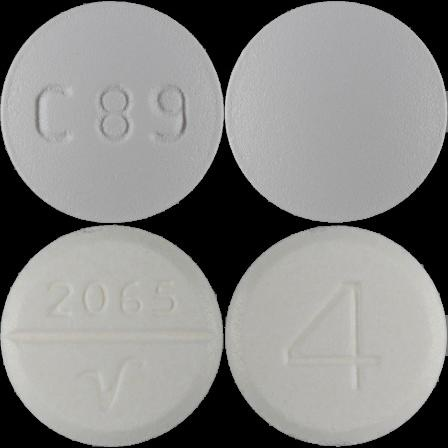33342-121: (0, 0, 224, 224)
